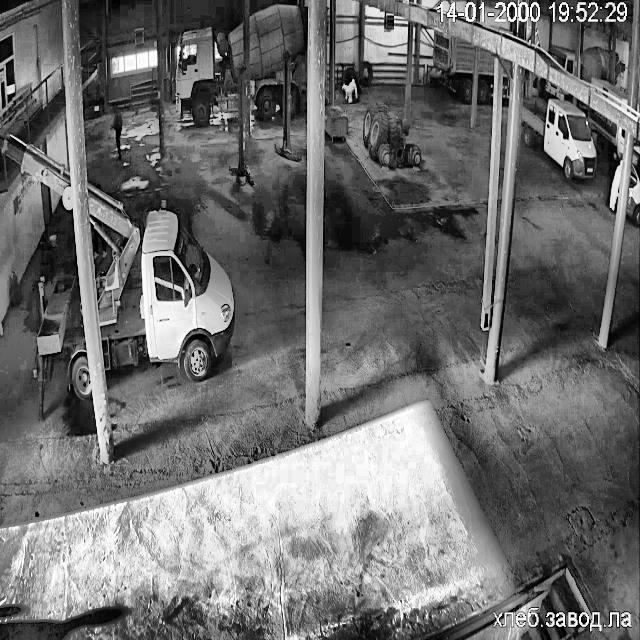class4: (609, 163, 620, 211), (112, 110, 121, 157)
class7: (88, 185, 234, 380), (176, 25, 244, 124), (248, 4, 306, 118), (37, 277, 91, 397), (521, 99, 596, 179), (0, 137, 72, 209), (433, 29, 475, 102), (548, 46, 623, 83), (588, 109, 624, 157), (216, 25, 244, 76), (592, 78, 628, 108), (477, 48, 494, 102), (625, 166, 640, 226), (550, 46, 576, 74), (542, 81, 566, 99), (632, 140, 640, 164), (503, 60, 510, 76), (500, 82, 508, 91), (612, 196, 616, 212), (41, 375, 43, 393)
tractor: (9, 270, 20, 306)
truck: (275, 52, 300, 161)
